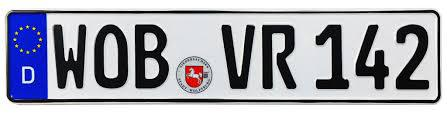1: (309, 22, 351, 91)
2: (393, 23, 432, 90)
4: (354, 21, 390, 90)
B: (134, 21, 170, 92)
O: (91, 20, 130, 90)
R: (258, 20, 300, 92)
V: (219, 20, 257, 91)
W: (51, 21, 89, 90)
